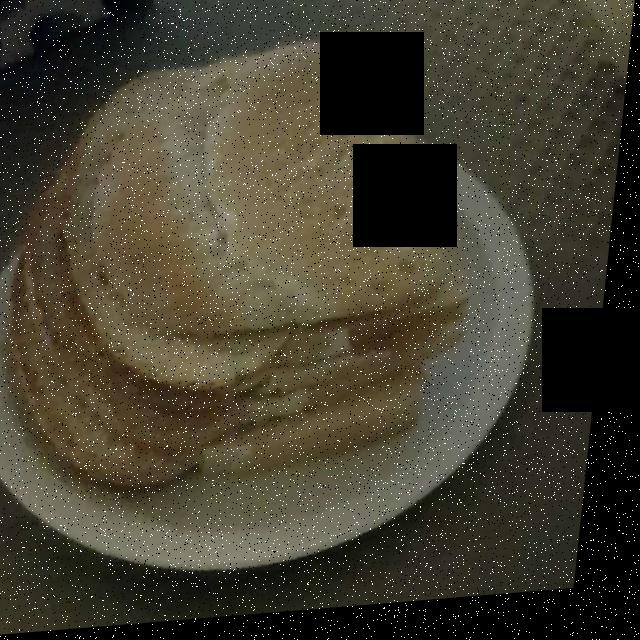bread-toast: (20, 46, 470, 482)
